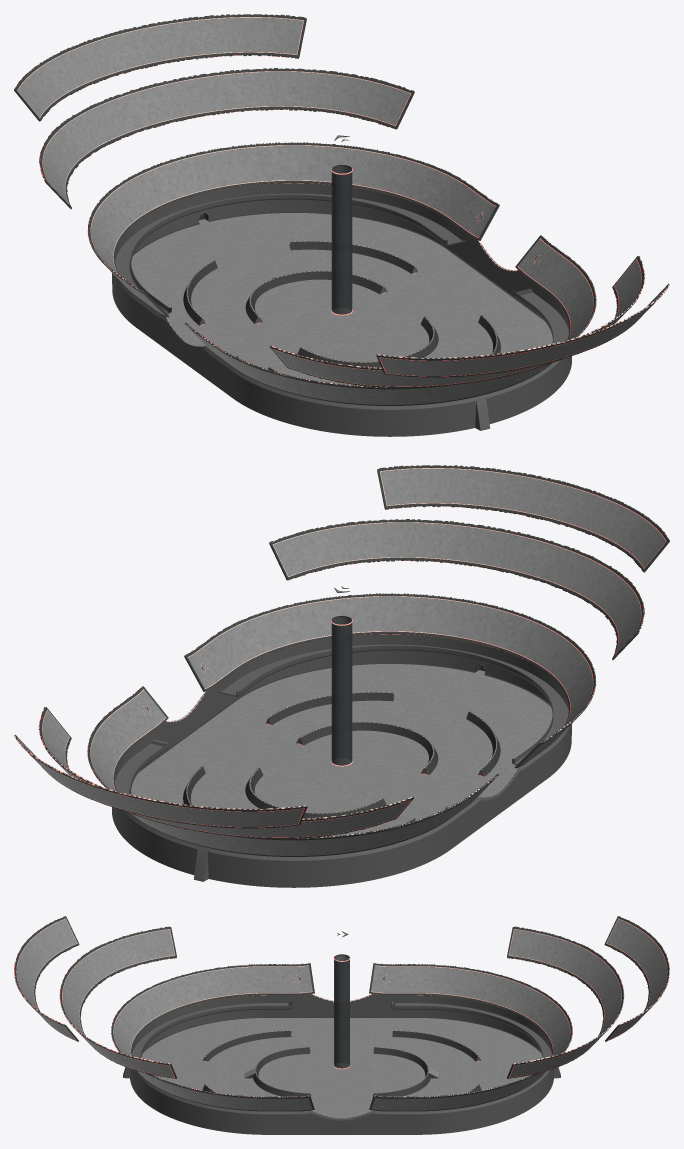
3 renders of one model, top to bottom at view 1: azimuth 30°, elevation 25°; view 2: azimuth 150°, elevation 25°; view 3: azimuth 270°, elevation 25°, orthographic. The views are drawn at different scales.
Parts seen in each view (by area): view 1: f.010, f.006, f.008, discombobulated_mesh.001, Circle.005, Cube.001, Cube; view 2: f.010, f.006, f.008, discombobulated_mesh.001, Circle.005, Cube.001, Cube; view 3: f.010, f.006, f.008, discombobulated_mesh.001, Cube.001, Circle.005, Cube.
Boxes of the visible parts, bbox=[...] form: f.010: bbox=[112, 183, 571, 436]; f.006: bbox=[14, 15, 667, 405]; f.008: bbox=[115, 193, 568, 358]; discombobulated_mesh.001: bbox=[14, 14, 669, 387]; Circle.005: bbox=[331, 166, 352, 314]; Cube.001: bbox=[245, 271, 438, 367]; Cube: bbox=[183, 241, 500, 372]; f.010: bbox=[112, 634, 571, 887]; f.006: bbox=[16, 466, 669, 856]; f.008: bbox=[115, 644, 568, 807]; discombobulated_mesh.001: bbox=[14, 465, 669, 838]; Circle.005: bbox=[331, 617, 352, 765]; Cube.001: bbox=[245, 722, 438, 818]; Cube: bbox=[183, 692, 500, 823]; f.010: bbox=[123, 994, 560, 1134]; f.006: bbox=[15, 916, 668, 1111]; f.008: bbox=[132, 1001, 551, 1058]; discombobulated_mesh.001: bbox=[14, 916, 669, 1076]; Cube.001: bbox=[244, 1047, 439, 1096]; Circle.005: bbox=[334, 955, 349, 1068]; Cube: bbox=[202, 1030, 481, 1092].
Size of the model in its own units: 5301 by 2554 by 10679.
